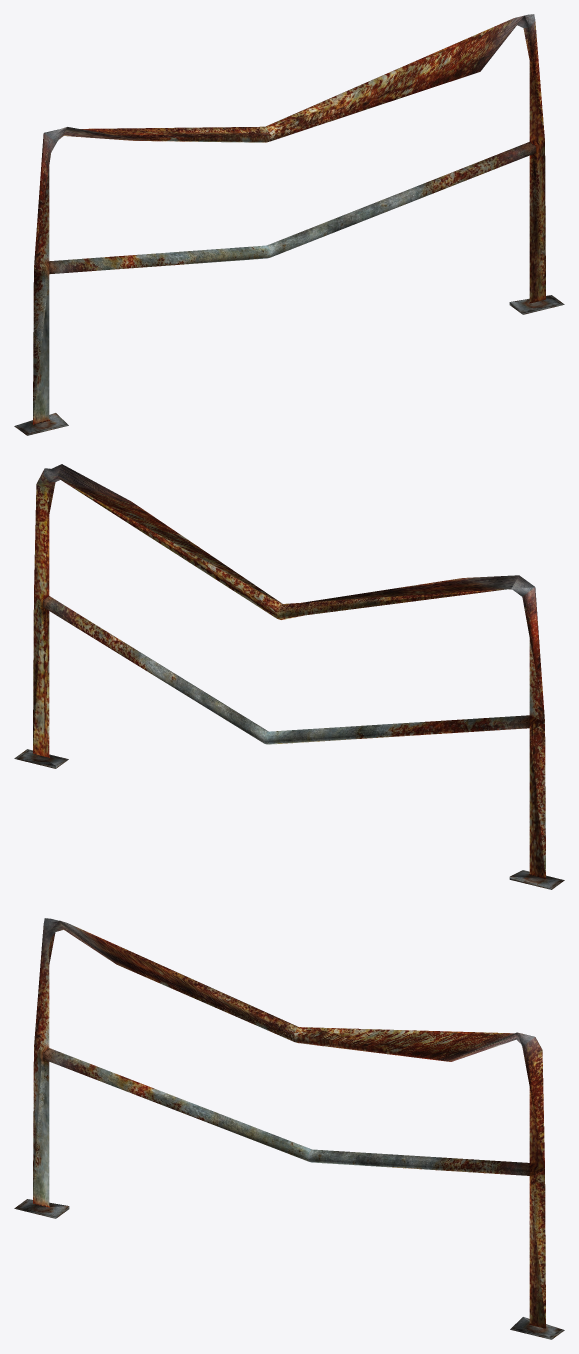
File: Railing_2_LOD2.FBX
3 renders of one model, top to bottom at view 1: azimuth 30°, elevation 25°; view 2: azimuth 150°, elevation 25°; view 3: azimuth 330°, elevation 25°, orthographic.
Parts seen in each view (by area): view 1: Railing; view 2: Railing; view 3: Railing.
Part boxes in pixels (bbox=[...]): Railing: bbox=[14, 14, 564, 435]; Railing: bbox=[14, 464, 564, 889]; Railing: bbox=[14, 918, 564, 1339].
Size of the model in its own units: 6.37 by 3.36 by 0.8548.
Materials: 1 (1 with a texture image).
